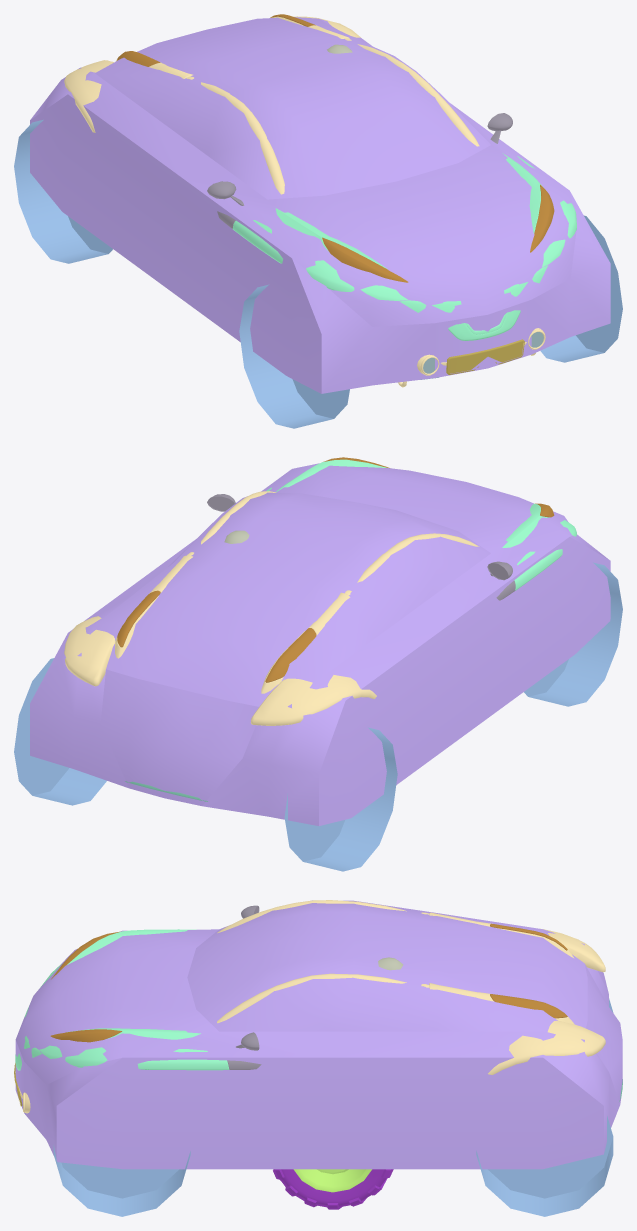
The model's file is buggy.glb.
3 views of the same model, one above another, from view 1: azimuth 30°, elevation 25°; view 2: azimuth 150°, elevation 25°; view 3: azimuth 270°, elevation 25° (orthographic). The views are drawn at different scales.
Visible parts, largest first — view 1: h_shape, h_shadow, h_hood, h_coque, h_glasses, h_license, h_door; view 2: h_shape, h_shadow, h_coque, h_hood, h_glasses, h_door; view 3: h_shape, h_shadow, h_coque, h_hood, h_pneu, h_glasses, h_wheel, h_door.
Part boxes in pixels (<box>): h_shape: <box>30,17,610,393</box>; h_shadow: <box>14,119,622,428</box>; h_hood: <box>232,153,576,340</box>; h_coque: <box>64,16,545,387</box>; h_glasses: <box>117,14,554,282</box>; h_license: <box>446,339,524,374</box>; h_door: <box>207,113,512,228</box>; h_shape: <box>30,463,610,825</box>; h_shadow: <box>14,562,622,871</box>; h_coque: <box>64,491,479,725</box>; h_hood: <box>266,459,576,590</box>; h_glasses: <box>117,457,554,682</box>; h_door: <box>207,494,515,600</box>; h_shape: <box>15,900,622,1169</box>; h_shadow: <box>53,998,613,1216</box>; h_coque: <box>18,900,605,1113</box>; h_hood: <box>15,929,229,1070</box>; h_pneu: <box>273,1169,393,1209</box>; h_glasses: <box>50,923,567,1042</box>; h_wheel: <box>293,1169,371,1192</box>; h_door: <box>227,905,261,1069</box>.
Bounding box in the file's own units: 2.19 × 1.93 × 3.97.
